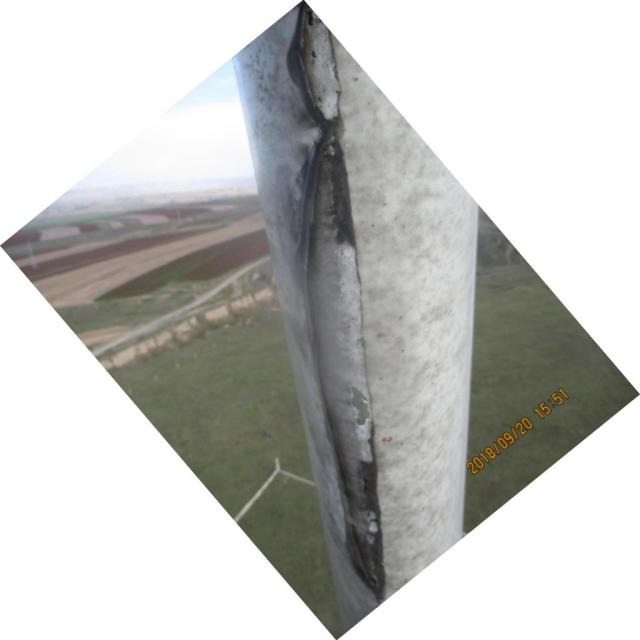crack: (308, 378, 386, 590), (302, 138, 375, 364), (287, 12, 351, 130)
